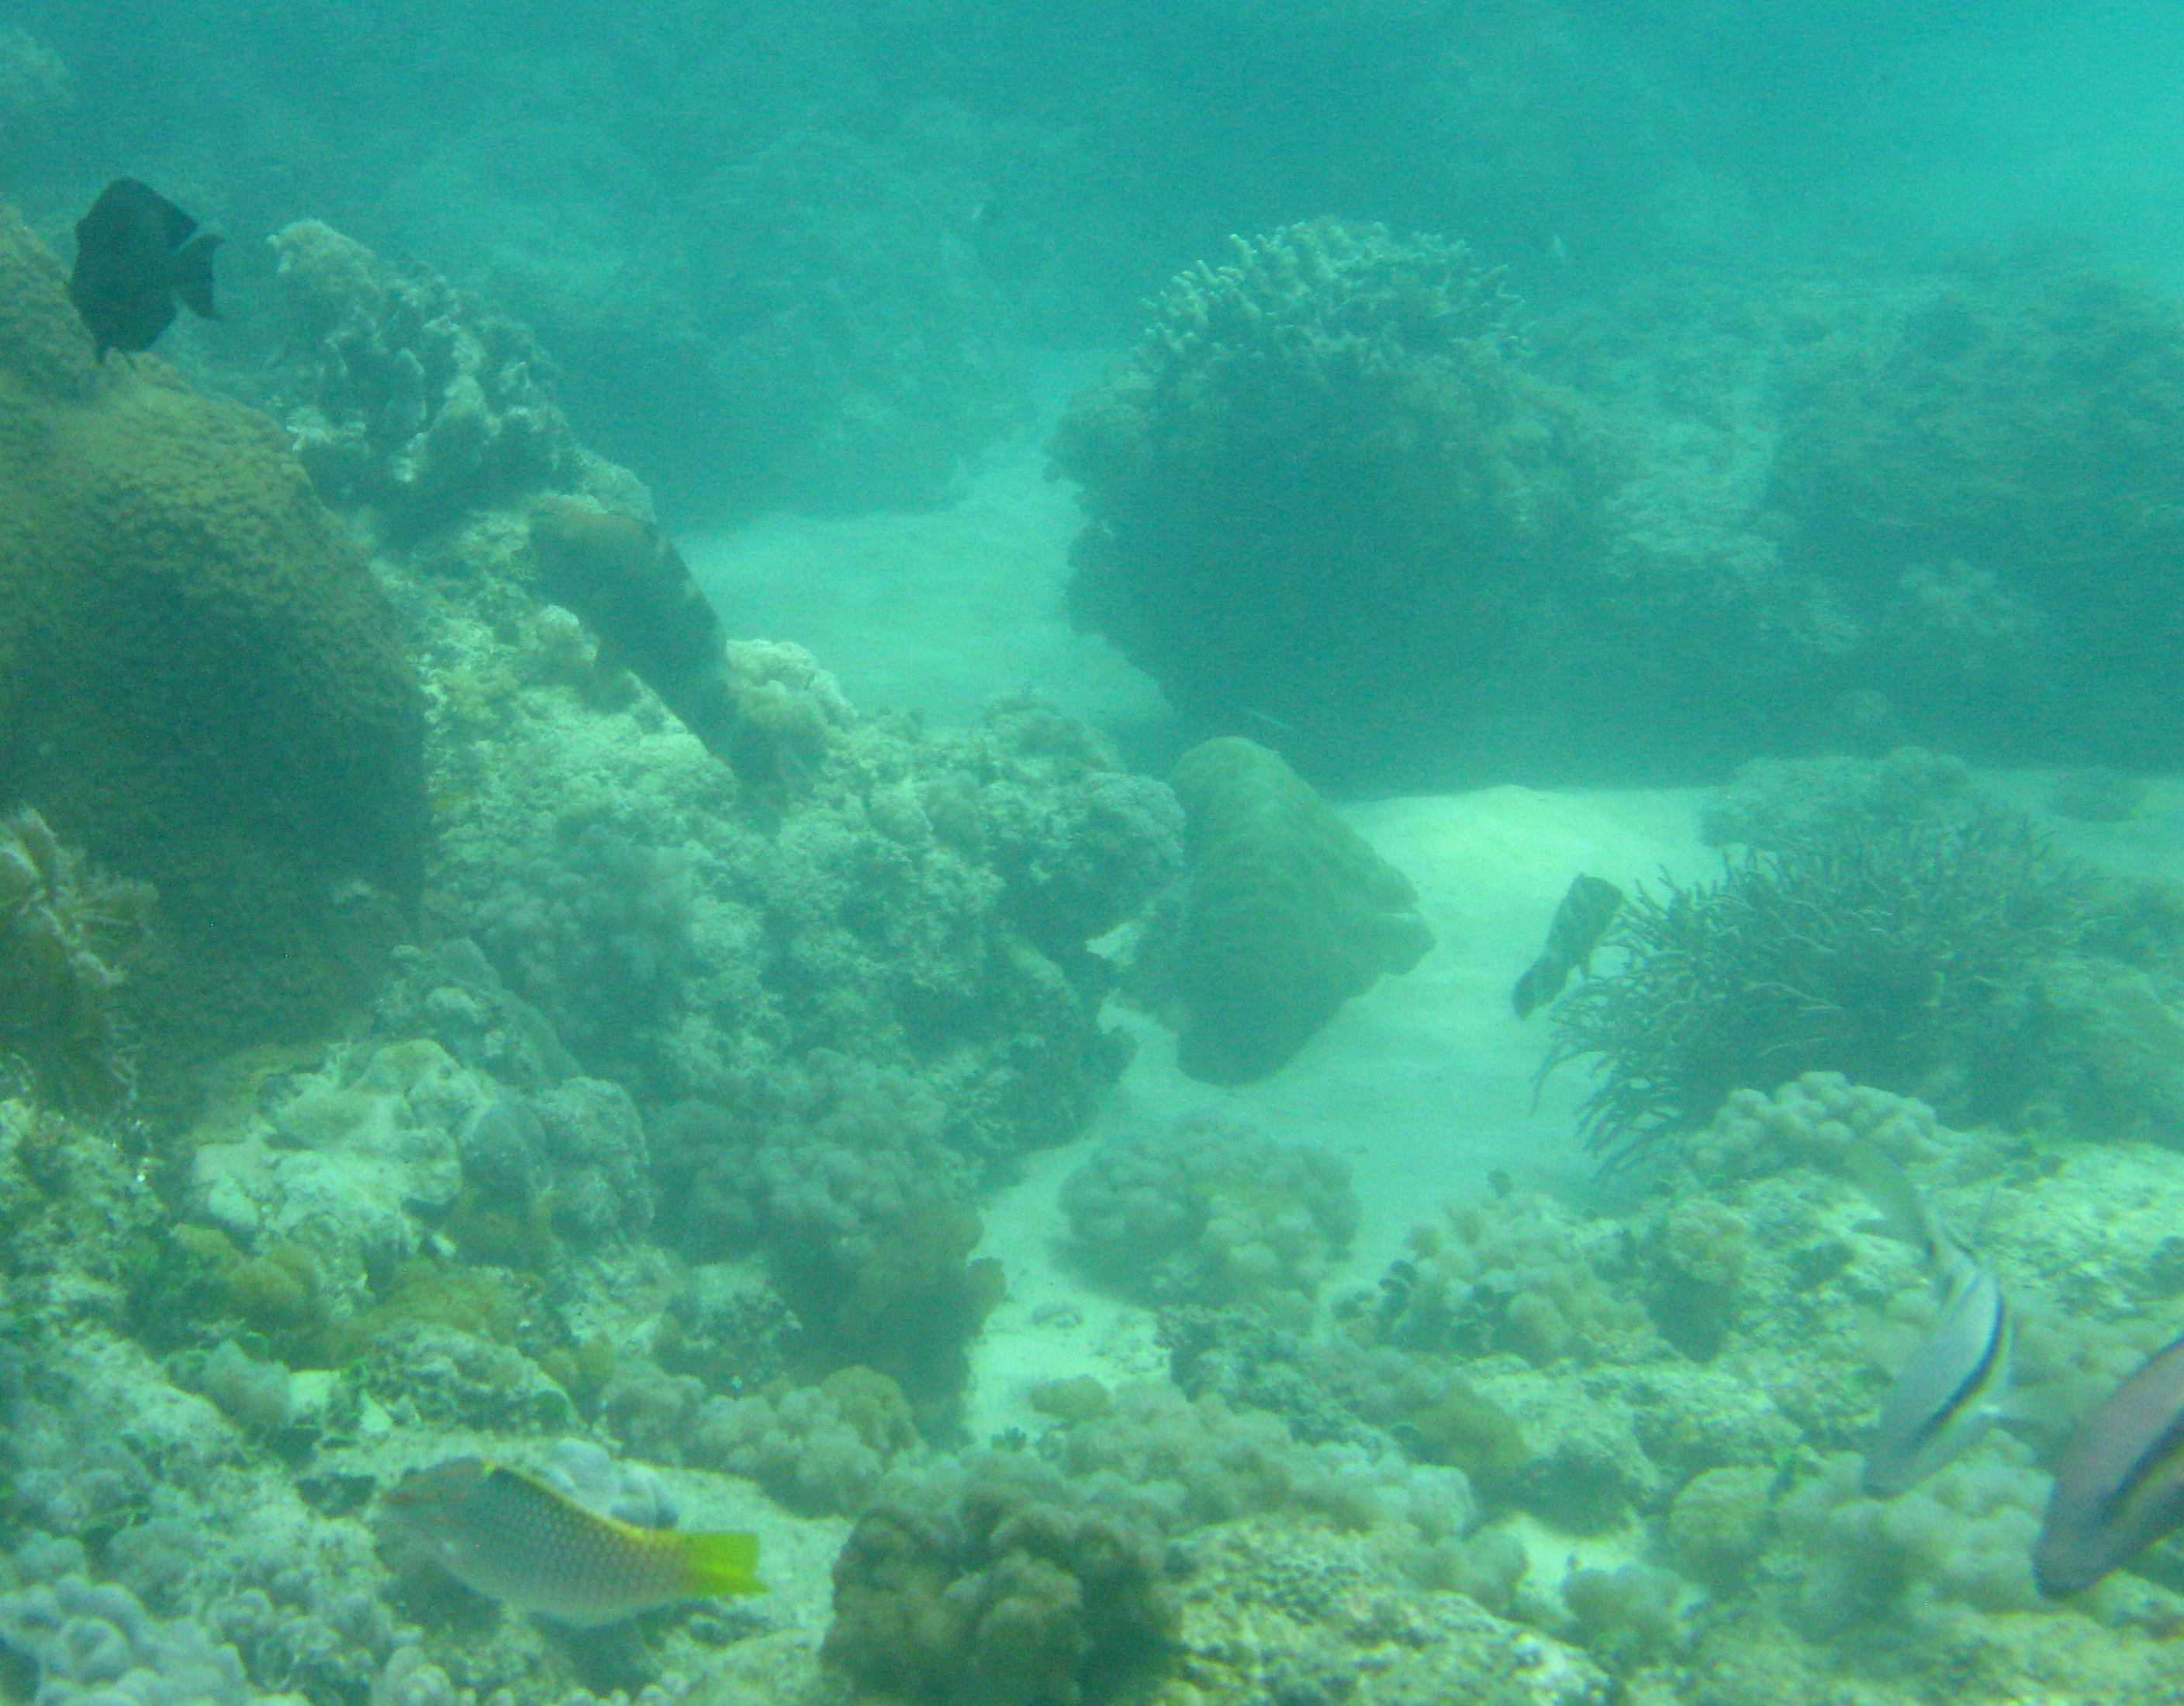Halichoeres hortulanus: (344, 1444, 799, 1681)
